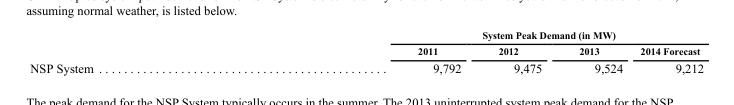table: (29, 29, 703, 74)
table column: (29, 29, 254, 74), (254, 29, 479, 74), (479, 29, 559, 74), (630, 29, 703, 74), (559, 29, 630, 74)
table column header: (29, 29, 703, 58)
table row: (29, 42, 703, 58), (29, 58, 703, 74), (29, 29, 703, 42)
table spanning cell: (254, 29, 703, 42)
